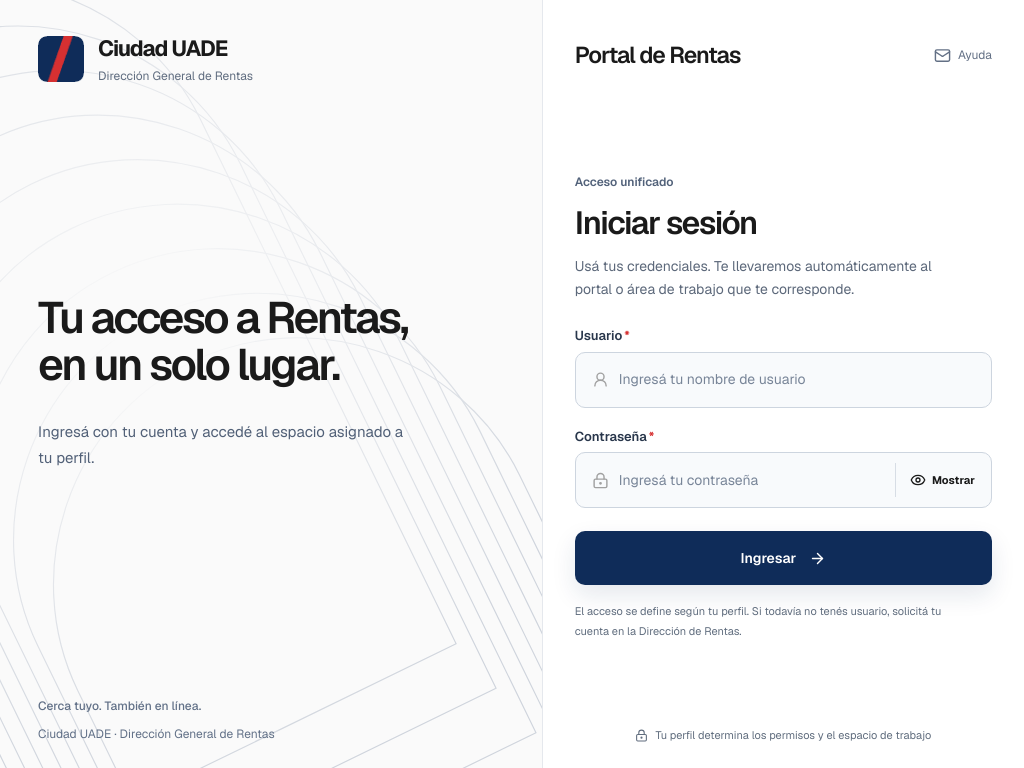
Test: ingreso al área de trabajo › informa credenciales inválidas
Type "jperez" into the field labelled "Usuario*" at (797, 380), box 619,366 -> 975,394
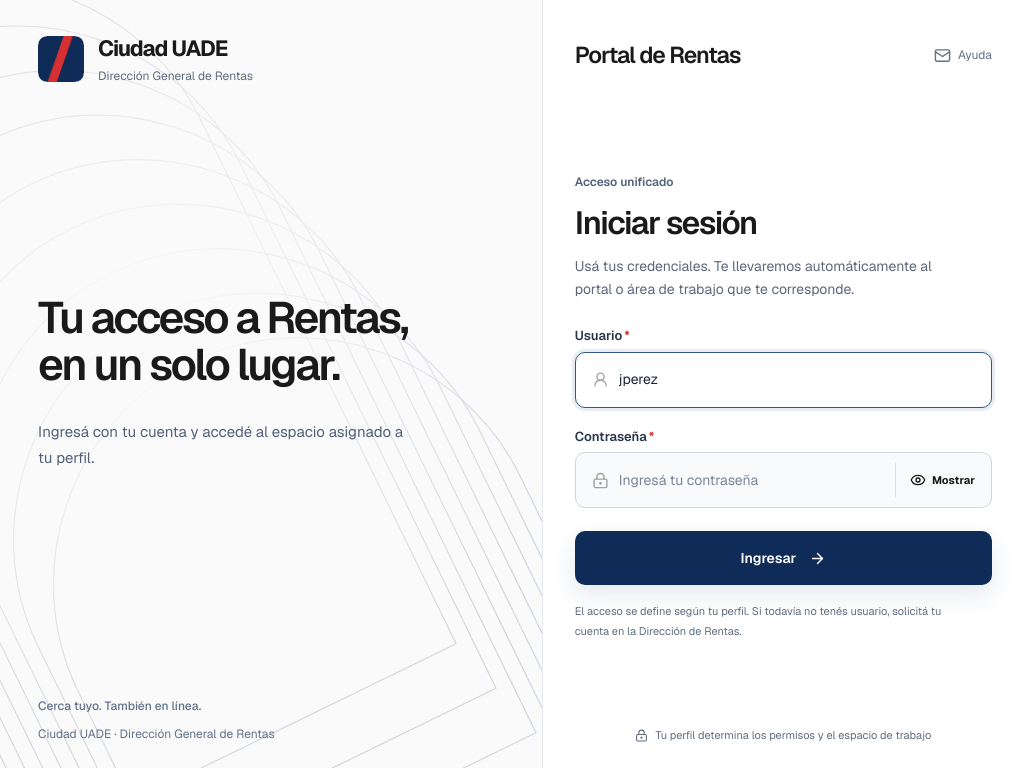
Type "incorrecta" into the password field labelled "Contraseña*" at (750, 480), box 619,466 -> 881,494
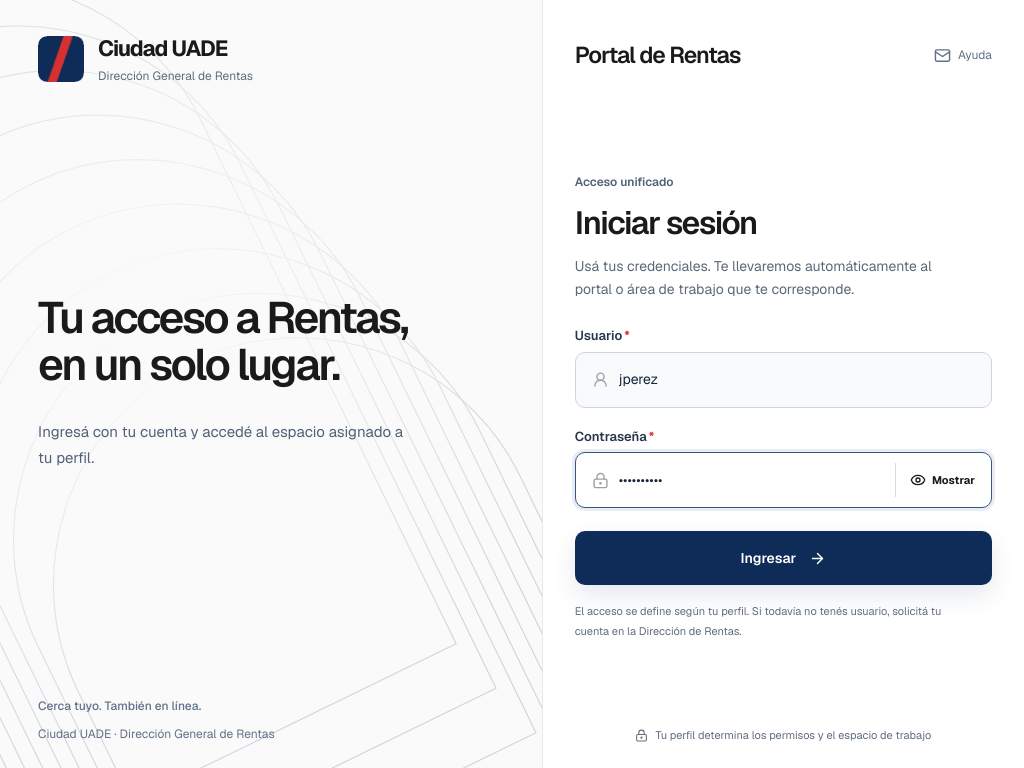
Click the button "Ingresar" at (783, 558), box 575,531 -> 992,585
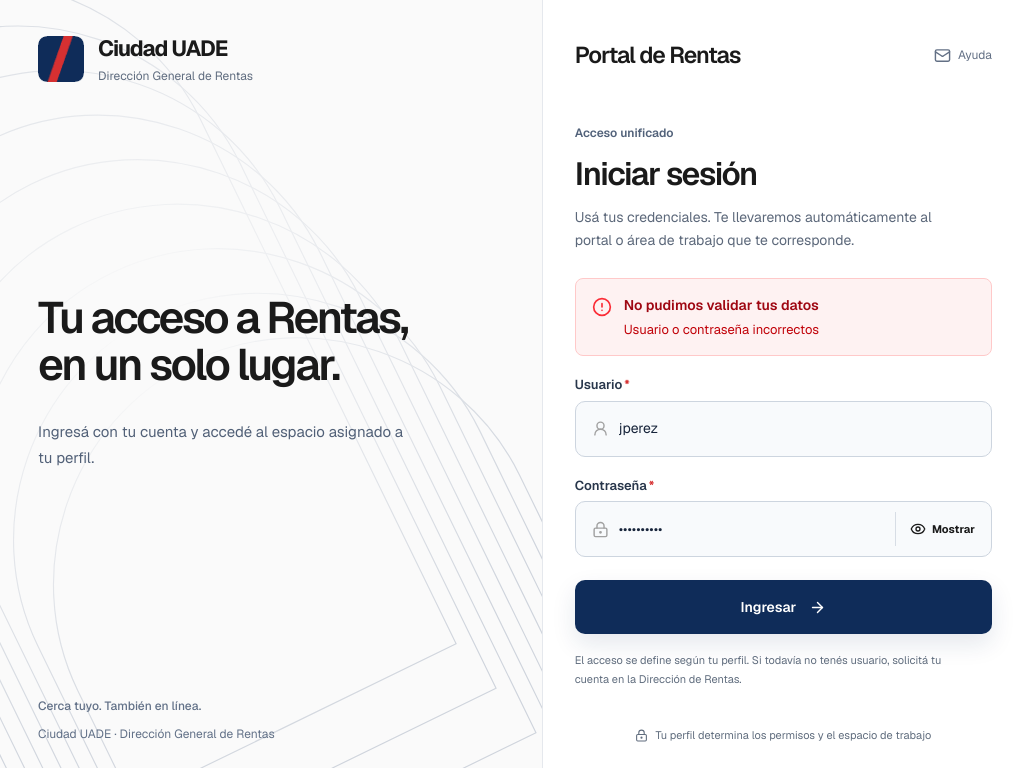
Now the text "Usuario o contraseña incorrectos" is shown, box 624,320 -> 819,338
